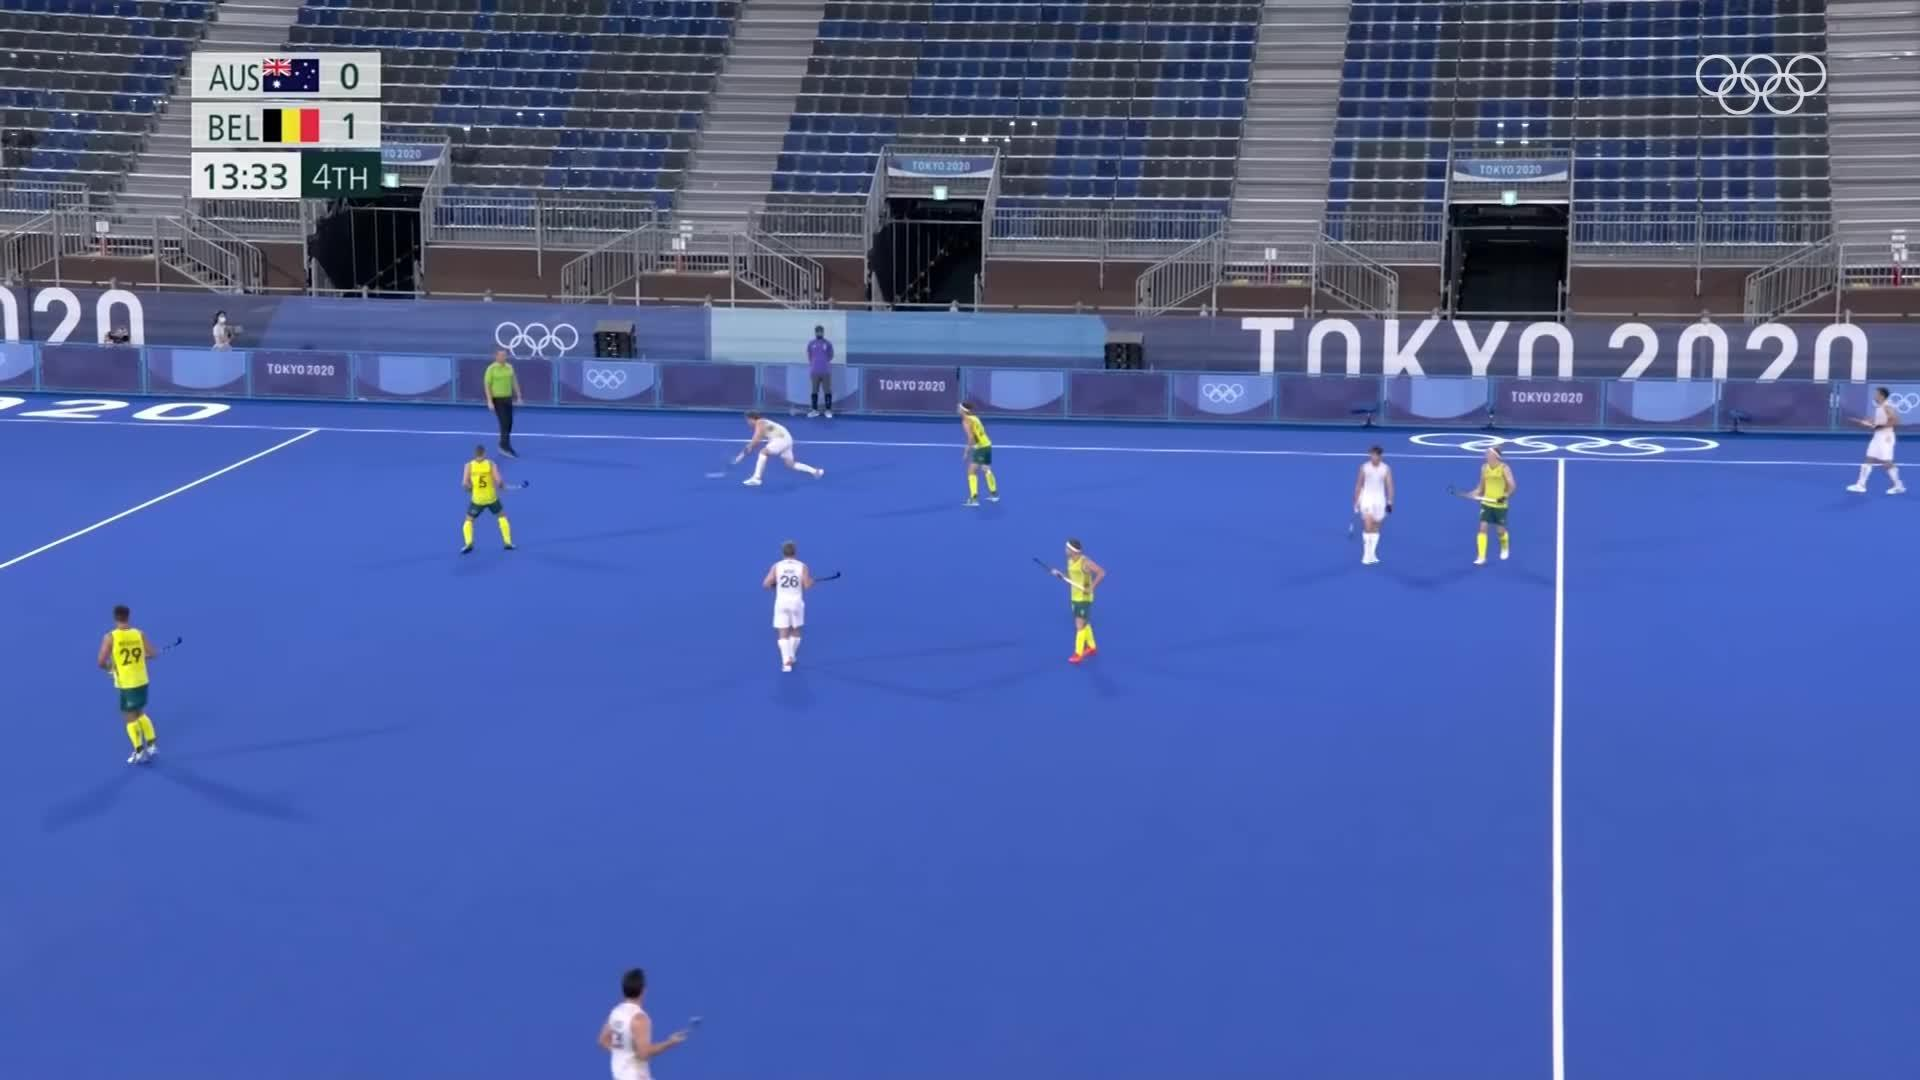ball: (700, 465, 729, 481)
